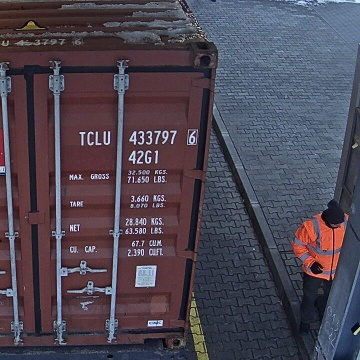serial_id: (79, 130, 196, 145)
